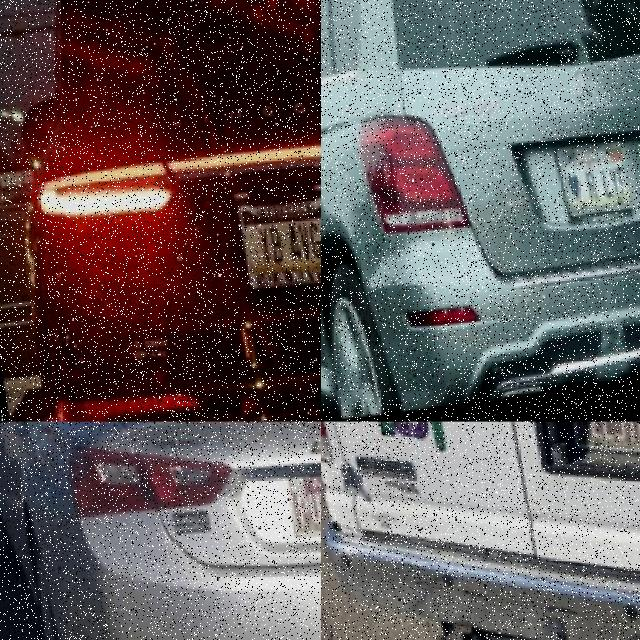licenseplate: (228, 200, 320, 294), (547, 143, 622, 223), (277, 473, 320, 542), (564, 422, 640, 458)
